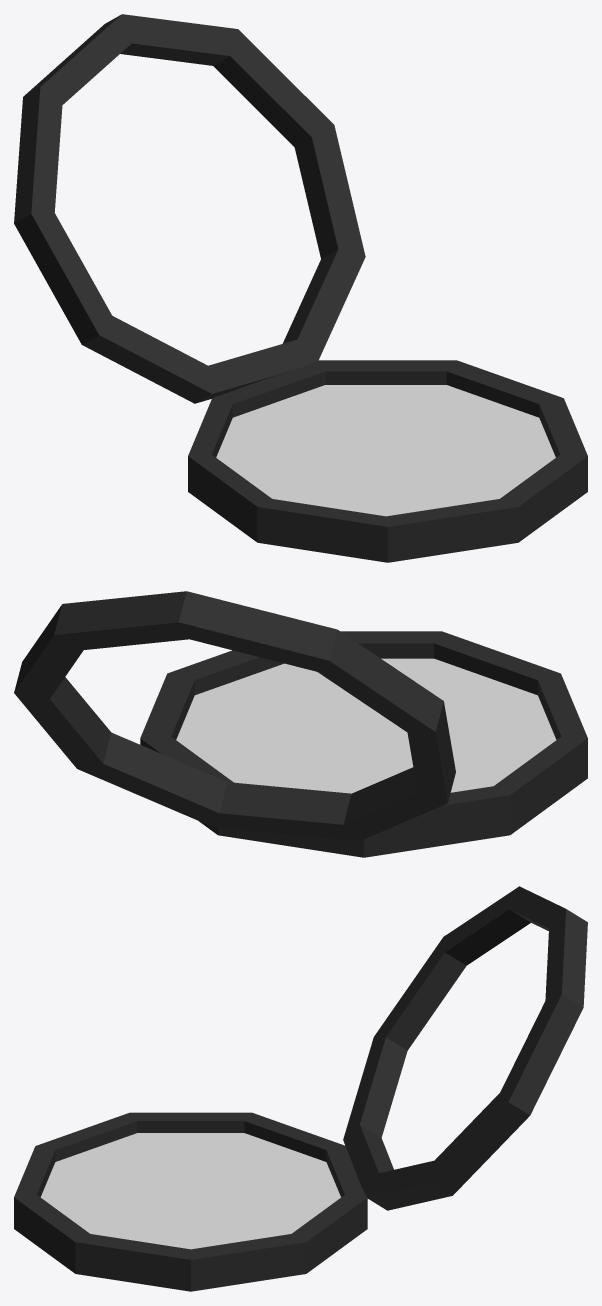
Rendered from Blush_01.fbx.
The picture shows the model from 3 angles, top to bottom: view 1: azimuth 30°, elevation 25°; view 2: azimuth 150°, elevation 25°; view 3: azimuth 270°, elevation 25°; orthographic projection. The views are drawn at different scales.
Parts seen in each view (by area): view 1: Blush_01; view 2: Blush_01; view 3: Blush_01.
Boxes of the visible parts, box(x1,y1,x2,y2) form: Blush_01: box(14, 14, 587, 562); Blush_01: box(14, 591, 587, 857); Blush_01: box(14, 886, 587, 1291).
Bounding box in the file's own units: 22.85 × 17.73 × 32.52.
